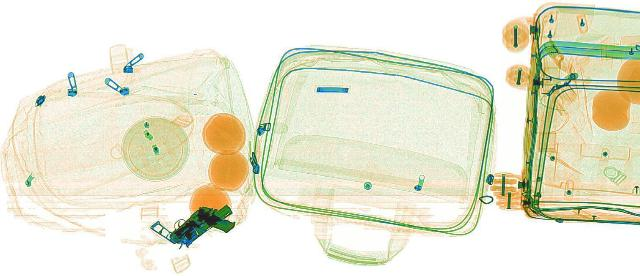Gun: (132, 195, 238, 246), (152, 202, 252, 247)
